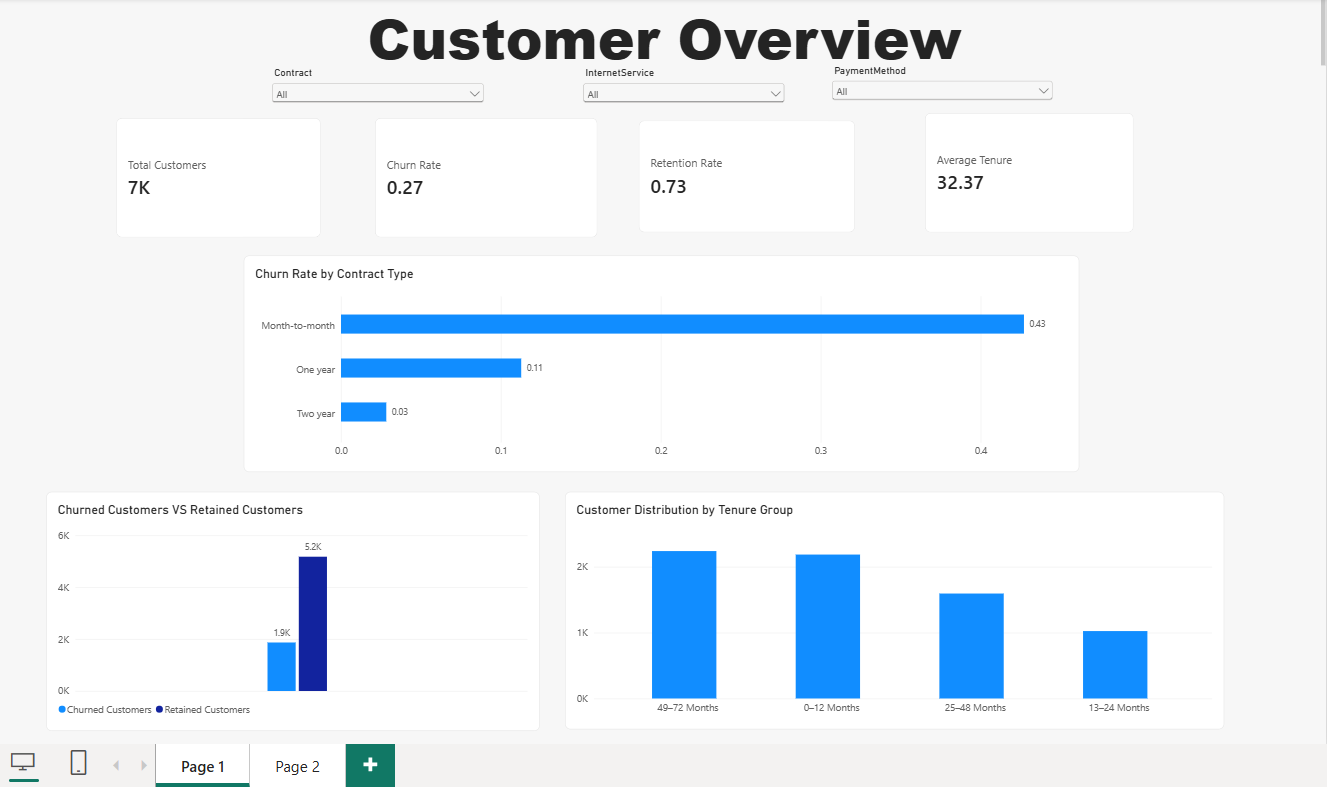

The page's visual inventory and layout, read from the dashboard file:
{"tool":"powerbi","page":{"name":"Page 1","canvas":[1920,1080],"ordinal":0},"visuals":[{"type":"textbox","box":[10.7,0,1909.3,104.5],"z":0},{"type":"cardVisual","fields":{"Data":["Cleaned_Data.Total Customers"]},"box":[168.8,173.1,296.5,173.1],"z":1000},{"type":"cardVisual","fields":{"Data":["Cleaned_Data.Churn Rate"]},"box":[543.2,173.1,322.5,173.1],"z":2000},{"type":"cardVisual","fields":{"Data":["Cleaned_Data.Retention Rate"]},"box":[924.1,177.5,313.8,162.3],"z":3000},{"type":"cardVisual","fields":{"Data":["Cleaned_Data.Average Tenure"]},"box":[1339.6,166.6,303,173.1],"z":4000},{"type":"clusteredColumnChart","title":"Churned Customers VS Retained Customers","fields":{"Y":["Cleaned_Data.Churned Customers","Cleaned_Data.Retained Customers"]},"box":[67.1,714.2,714.2,346.3],"z":5000},{"type":"clusteredBarChart","title":"Churn Rate by Contract Type","fields":{"Category":["Cleaned_Data.Contract"],"Y":["Cleaned_Data.Churn Rate"]},"box":[352.8,372.2,1209.8,313.8],"z":6000},{"type":"clusteredColumnChart","title":"Customer Distribution by Tenure Group","fields":{"Category":["Cleaned_Data.Tenure_Group"],"Y":["CountNonNull(Cleaned_Data.customerID)"]},"box":[818,714.2,954.4,344.1],"z":7000},{"type":"slicer","fields":{"Values":["Cleaned_Data.Contract"]},"box":[389.5,99.6,316,88.7],"z":8000},{"type":"slicer","fields":{"Values":["Cleaned_Data.InternetService"]},"box":[839.7,99.6,300.8,88.7],"z":9000},{"type":"slicer","fields":{"Values":["Cleaned_Data.PaymentMethod"]},"box":[1198.9,95.2,328.9,97.4],"z":10000}]}

Visuals, with their boxes on the page's 1920x1080 design canvas (x1, y1, x2, y2). These are canvas units, not pixel positions in the 1327x787 screenshot, which may show the page scaled, cropped or inside an application window:
textbox: {"x1": 11, "y1": 0, "x2": 1920, "y2": 104}
cardVisual - Cleaned_Data.Total Customers: {"x1": 169, "y1": 173, "x2": 465, "y2": 346}
cardVisual - Cleaned_Data.Churn Rate: {"x1": 543, "y1": 173, "x2": 866, "y2": 346}
cardVisual - Cleaned_Data.Retention Rate: {"x1": 924, "y1": 178, "x2": 1238, "y2": 340}
cardVisual - Cleaned_Data.Average Tenure: {"x1": 1340, "y1": 167, "x2": 1643, "y2": 340}
"Churned Customers VS Retained Customers" clusteredColumnChart: {"x1": 67, "y1": 714, "x2": 781, "y2": 1060}
"Churn Rate by Contract Type" clusteredBarChart: {"x1": 353, "y1": 372, "x2": 1563, "y2": 686}
"Customer Distribution by Tenure Group" clusteredColumnChart: {"x1": 818, "y1": 714, "x2": 1772, "y2": 1058}
slicer - Cleaned_Data.Contract: {"x1": 390, "y1": 100, "x2": 706, "y2": 188}
slicer - Cleaned_Data.InternetService: {"x1": 840, "y1": 100, "x2": 1140, "y2": 188}
slicer - Cleaned_Data.PaymentMethod: {"x1": 1199, "y1": 95, "x2": 1528, "y2": 193}
